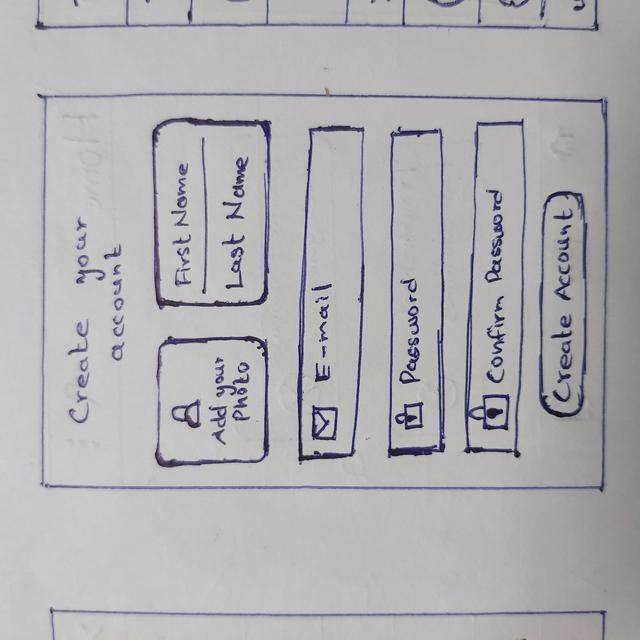Button: (535, 187, 592, 424)
CardView: (148, 118, 275, 312), (151, 336, 278, 468)
EditText: (297, 124, 369, 466), (385, 125, 451, 459), (465, 119, 529, 457), (216, 146, 269, 298), (163, 145, 212, 299)
Icon: (474, 392, 510, 435), (310, 406, 342, 442), (394, 399, 423, 435), (173, 405, 203, 428)
MainLayout: (40, 93, 607, 492)
TextView: (63, 217, 97, 428), (211, 357, 251, 448), (104, 245, 128, 372)
